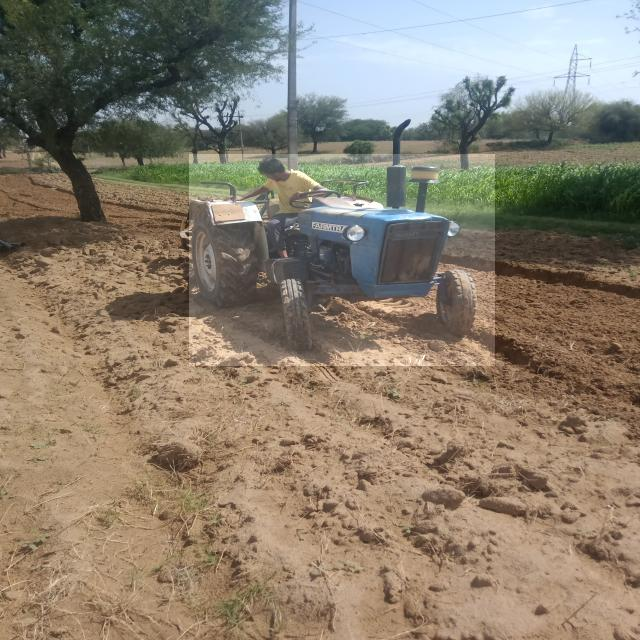Tractot: (189, 154, 495, 366)
